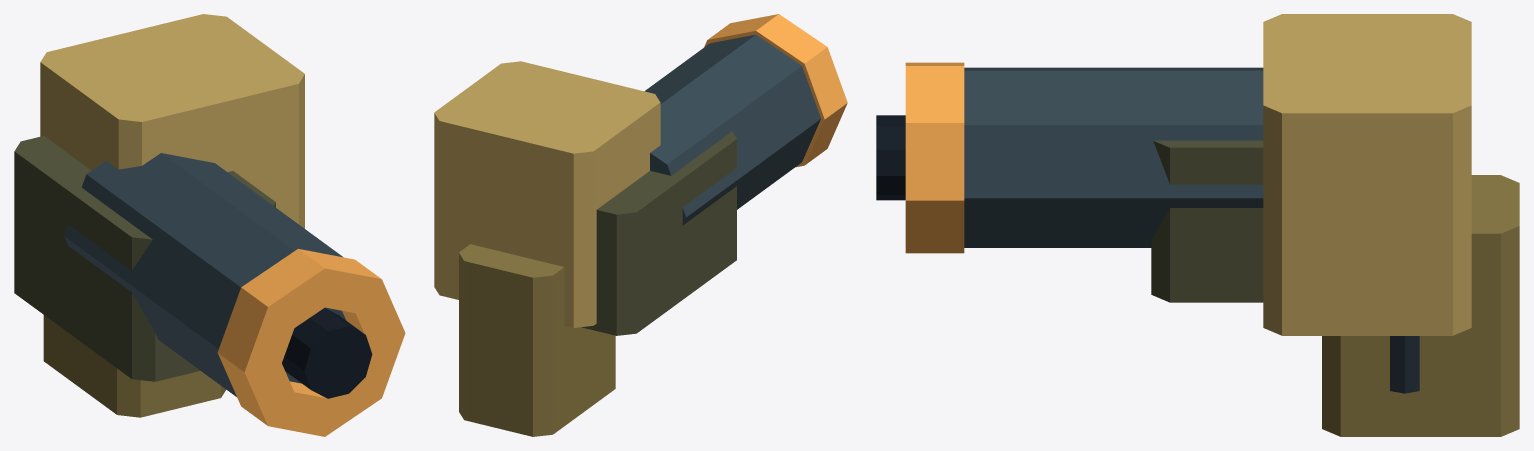
File: enemy_gunner_lod_forearm_l.obj
3 renders of one model, left to right at view 1: azimuth 30°, elevation 25°; view 2: azimuth 150°, elevation 25°; view 3: azimuth 270°, elevation 25°, orthographic. The views are drawn at different scales.
Size of the model in its own units: 0.55 by 0.725 by 1.21.
